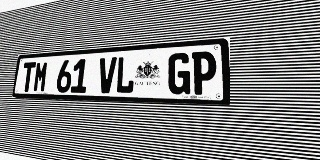1: (70, 59, 89, 93)
6: (56, 60, 73, 93)
G: (167, 52, 191, 95)
L: (115, 56, 136, 94)
M: (33, 61, 49, 92)
P: (191, 51, 216, 95)
T: (20, 62, 36, 92)
V: (97, 57, 117, 93)
